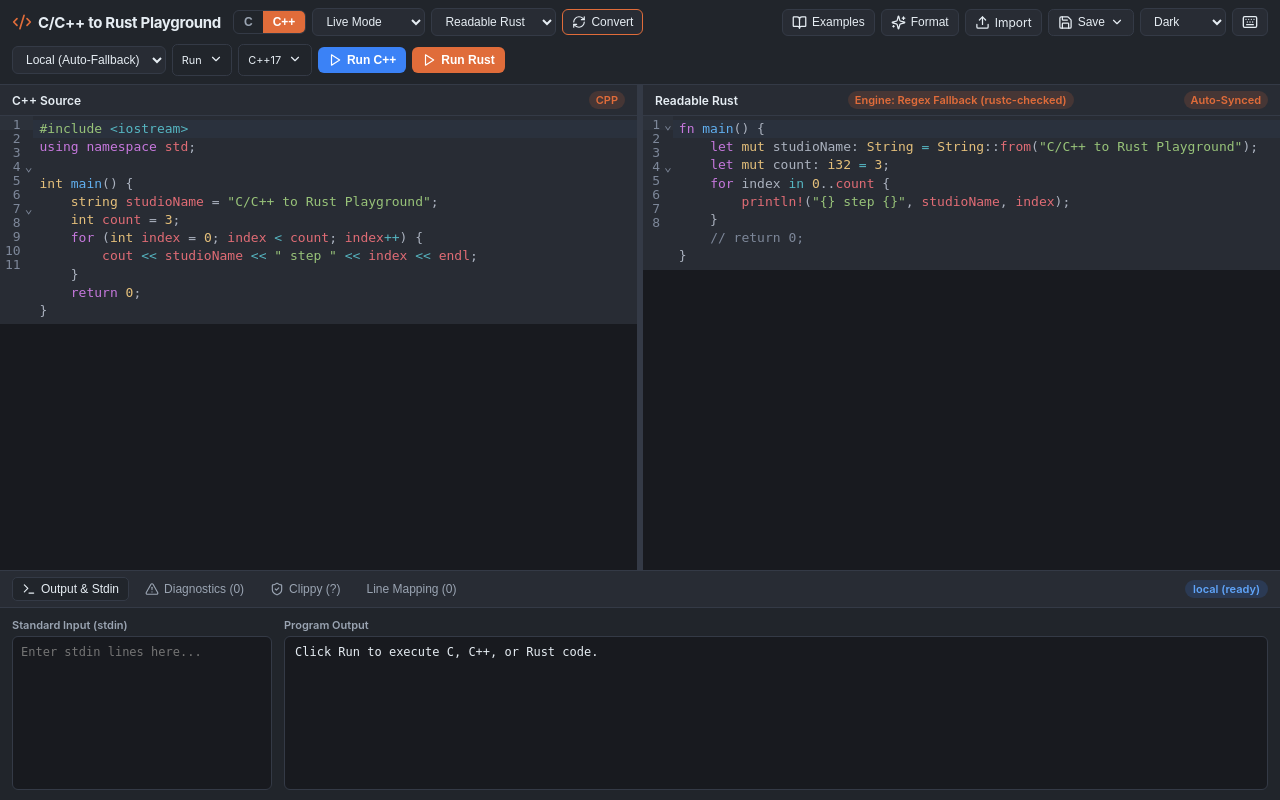
Test case: App component › executes Rust code and displays output in console
What coordinates should you click on to do the following:
click the button with test id "run-rust-button"
I would click on:
 (458, 60)
Its box is [412, 47, 505, 73].
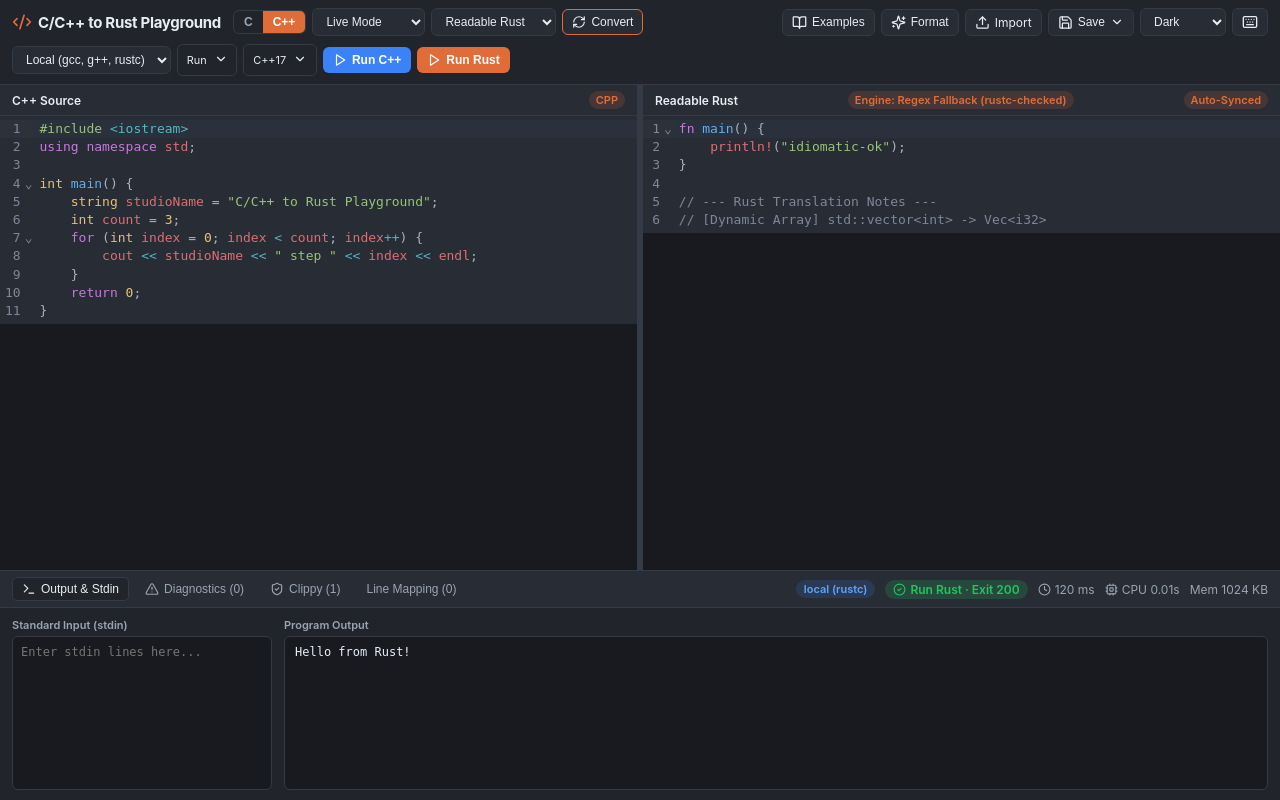
Check: the text with test id "program-output" reads "Hello from Rust!", box [295, 645, 411, 659]
Check: the text with test id "used-provider-pill" reads "local (rustc)", box [804, 582, 867, 596]
